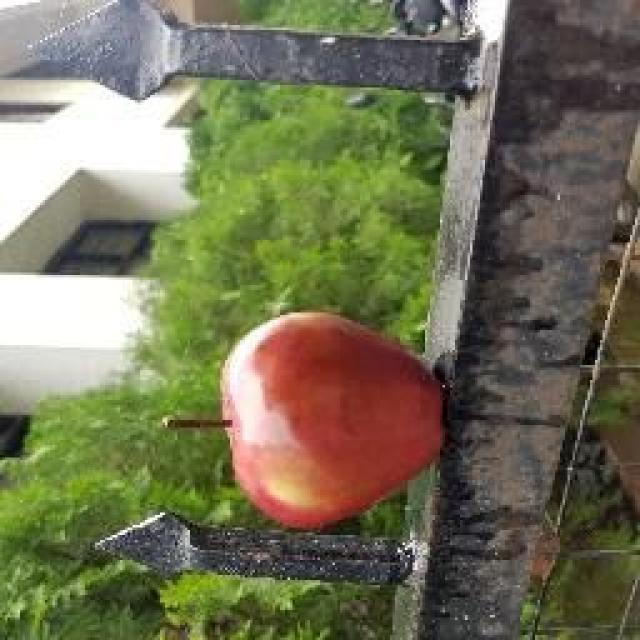Good_Apple: (165, 312, 448, 532)
